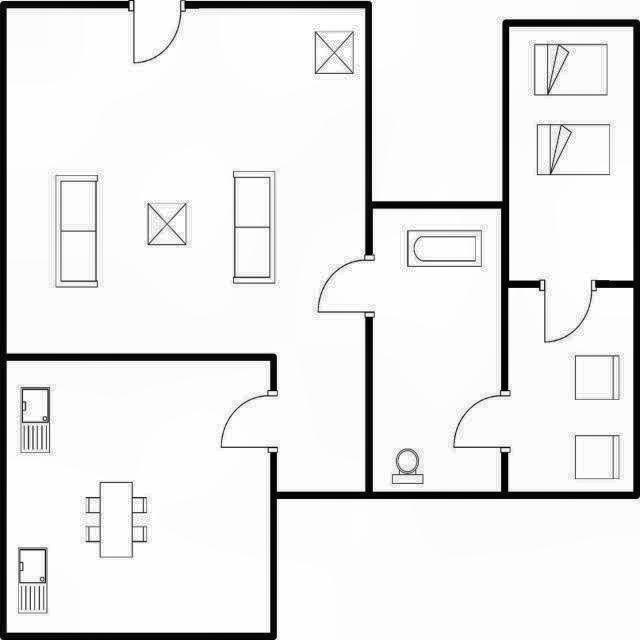room: (6, 7, 365, 492), (7, 361, 270, 633), (373, 208, 501, 492), (509, 26, 633, 281), (508, 288, 633, 492)
